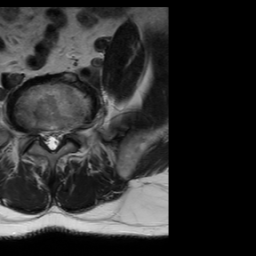CCS_normal: (48, 126, 55, 157)
LFS_stenosis: (62, 119, 71, 143)
LLS_normal: (55, 124, 62, 152)
RFS_severe_stenosis: (32, 120, 41, 146)
RLS_normal: (41, 124, 48, 153)
